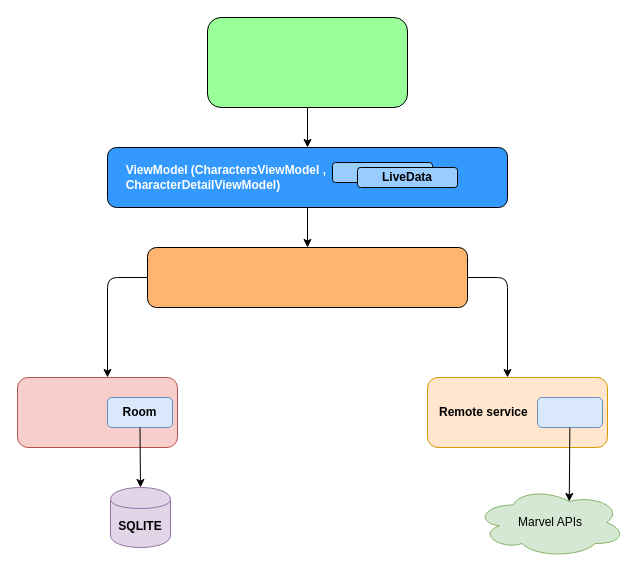
Some shapes in this 643 by 575 pixel diagram are drawn without their labels. The shapes that lost their labels are listed below. From the top down, each one's box as (x1, y1, x2, y2) in pixels, then its label:
(206, 16, 408, 108): View CharactersActivity, CharactersDetailsActivity ComicDetailsActivity
(146, 246, 468, 308): Repository CharacterDetailsRepository. CharactersRepository
(16, 376, 178, 448): Model
(536, 396, 602, 428): Retrofit
